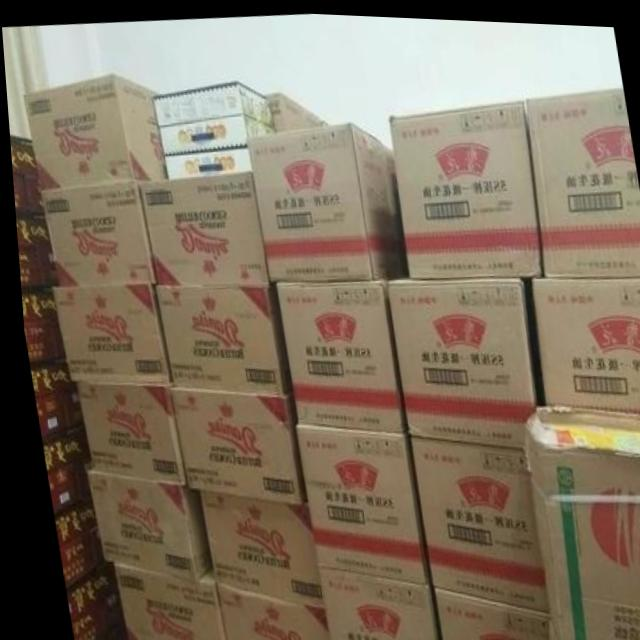box: (517, 399, 640, 640), (386, 95, 538, 276), (244, 119, 404, 276), (382, 273, 528, 444), (401, 432, 538, 605), (523, 81, 640, 273), (289, 421, 421, 582), (270, 277, 397, 428), (22, 73, 165, 187), (165, 386, 299, 503), (528, 270, 640, 407), (149, 280, 285, 392), (136, 167, 261, 281), (79, 468, 203, 577), (192, 488, 314, 598), (38, 178, 152, 286), (46, 282, 164, 385), (152, 79, 273, 173), (70, 379, 178, 483), (313, 564, 430, 640), (105, 563, 215, 640), (206, 574, 320, 640), (424, 583, 548, 640), (36, 420, 85, 518), (58, 560, 115, 640), (26, 357, 78, 443), (47, 496, 95, 587), (17, 285, 63, 367), (8, 134, 43, 215), (12, 213, 47, 290), (259, 90, 328, 127), (95, 621, 116, 640)
